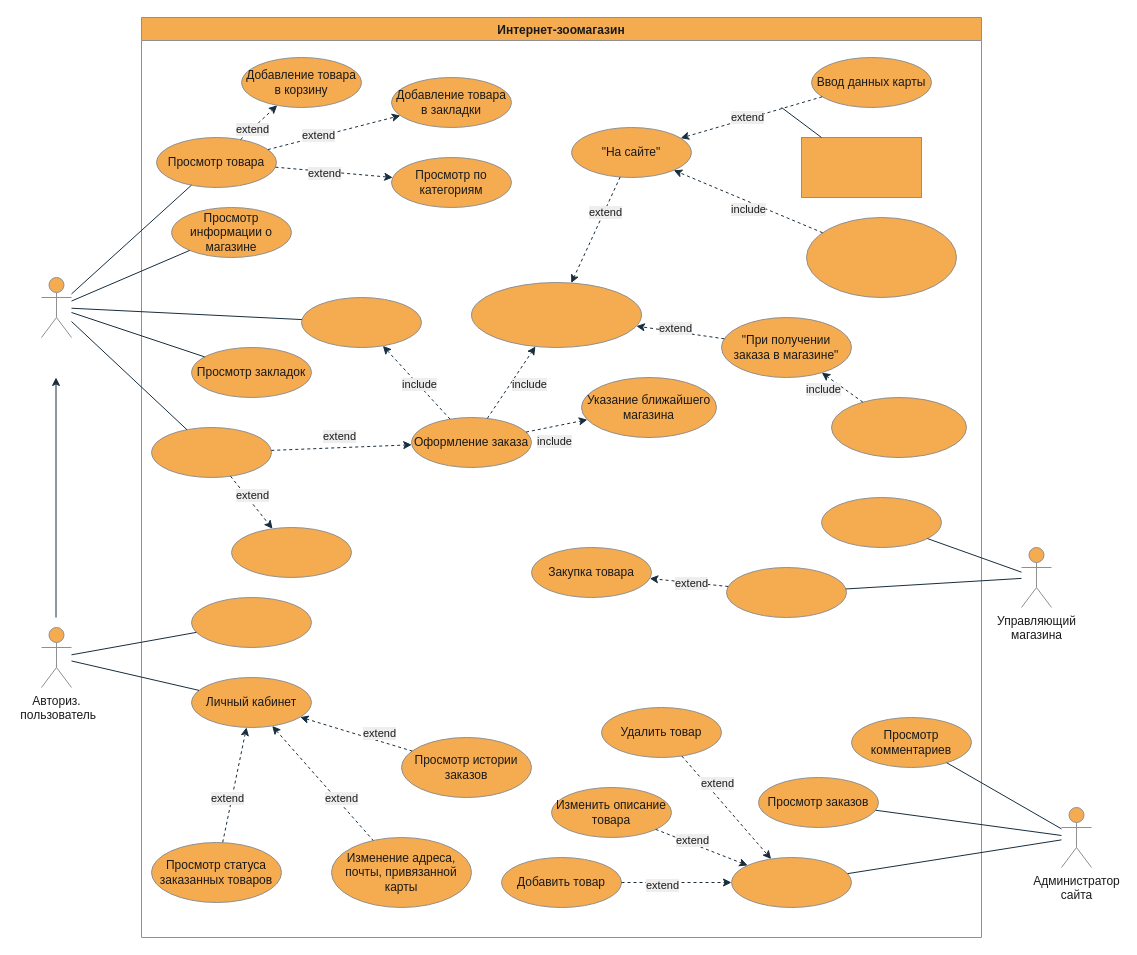
Some shapes in this 1137 by 955 pixel diagram are drawn without their labels. The shapes that lost their labels are listed below. From the top down, each one's centre as x and y in pixels, then its label:
At point 861,167: "Усл: не привязана карта".
At point 881,257: "Подтверждение оплаты. Письмо на почту с номером чека".
At point 56,307: "Незарег. пользователь".
At point 361,322: "Регистрация или авторизация".
At point 556,315: "Выбор способа оплаты".
At point 898,427: "Письмо на почту на имя заказчика".
At point 211,452: "Просмотр корзины".
At point 881,522: "Ведение финансовой отчётности".
At point 291,552: "Удаление товара из корзины".
At point 786,592: "Проверка наличия товара".
At point 251,622: "Оставить отзыв о товаре".
At point 791,882: "Редактирование сайта".
